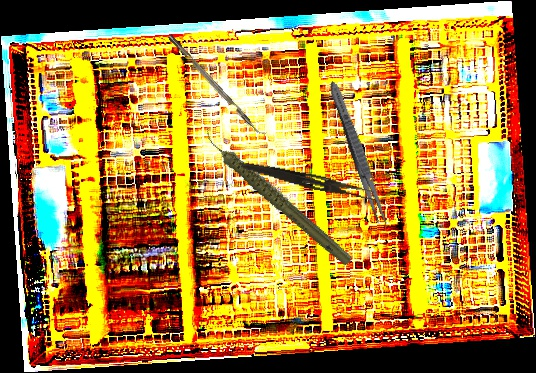Chopper: (167, 29, 269, 140)
Dressing Forceps: (324, 79, 393, 231), (239, 160, 376, 201)
Handpiece: (200, 101, 356, 291)
